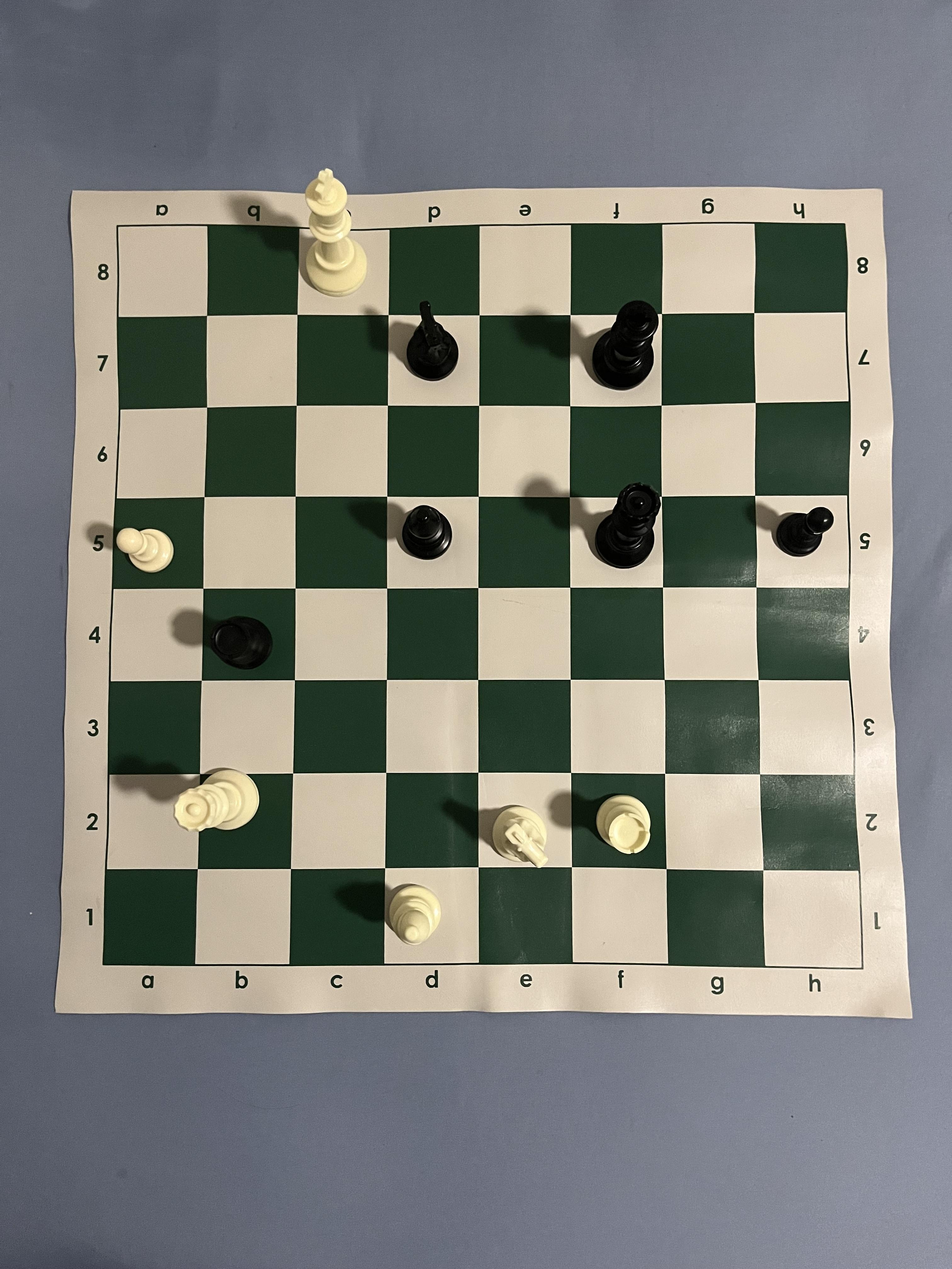black_bishop: (400, 504, 453, 561)
black_king: (592, 300, 660, 392)
black_knight: (405, 300, 461, 382)
black_pawn: (775, 506, 835, 558)
black_queen: (594, 482, 661, 570)
black_rook: (207, 616, 274, 670)
white_bishop: (387, 882, 443, 947)
white_king: (303, 167, 367, 297)
white_knight: (490, 804, 551, 869)
white_pawn: (116, 527, 175, 574)
white_queen: (173, 766, 261, 834)
white_rook: (595, 792, 651, 855)
